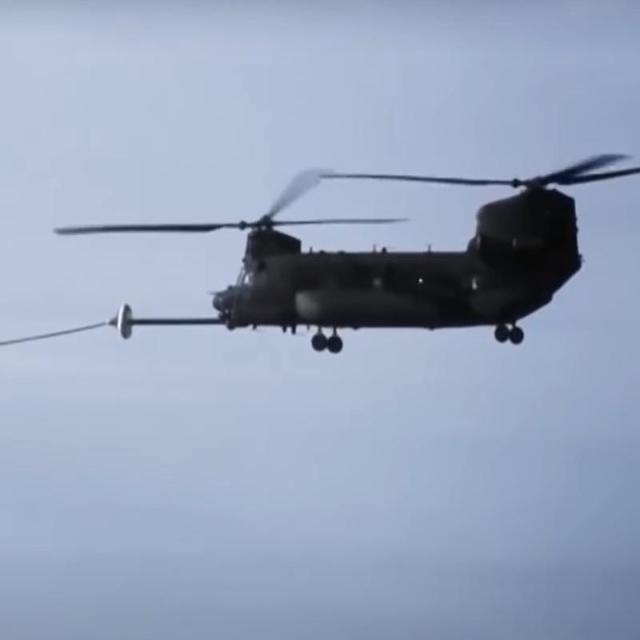Helicopter: (74, 157, 636, 412)
